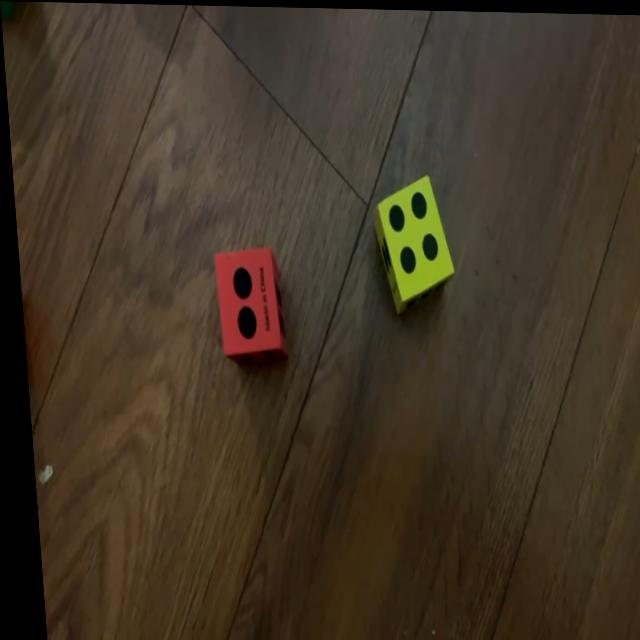red_block: (209, 244, 283, 357)
